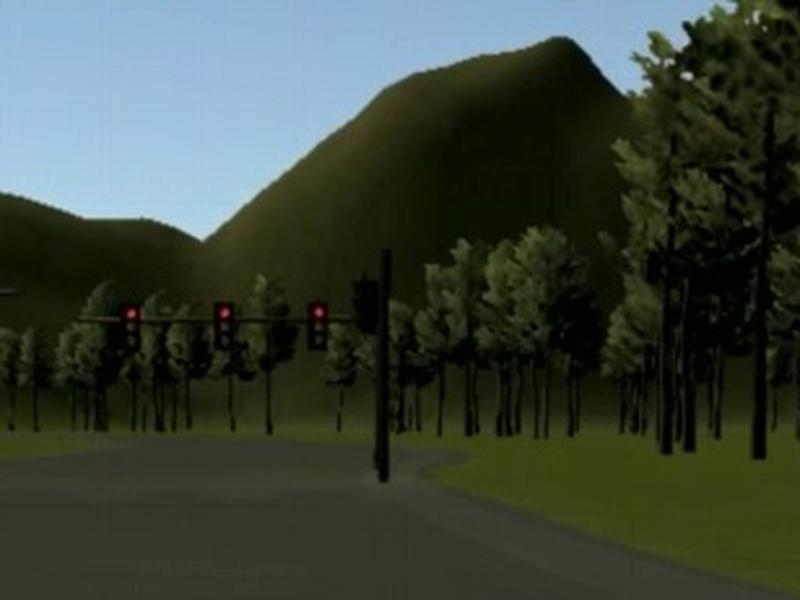Red: (307, 300, 329, 350), (214, 300, 236, 350), (120, 304, 140, 351)
